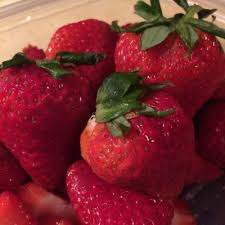Fresa: (77, 79, 197, 201), (1, 55, 97, 196), (112, 13, 224, 117), (63, 156, 181, 225)
